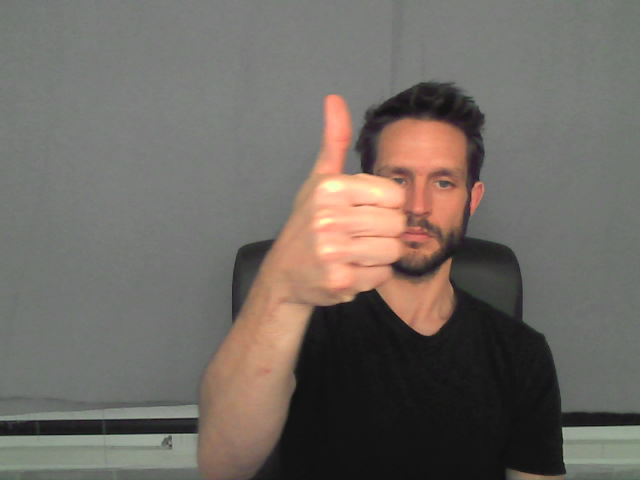thumbsup: (279, 95, 404, 306)
